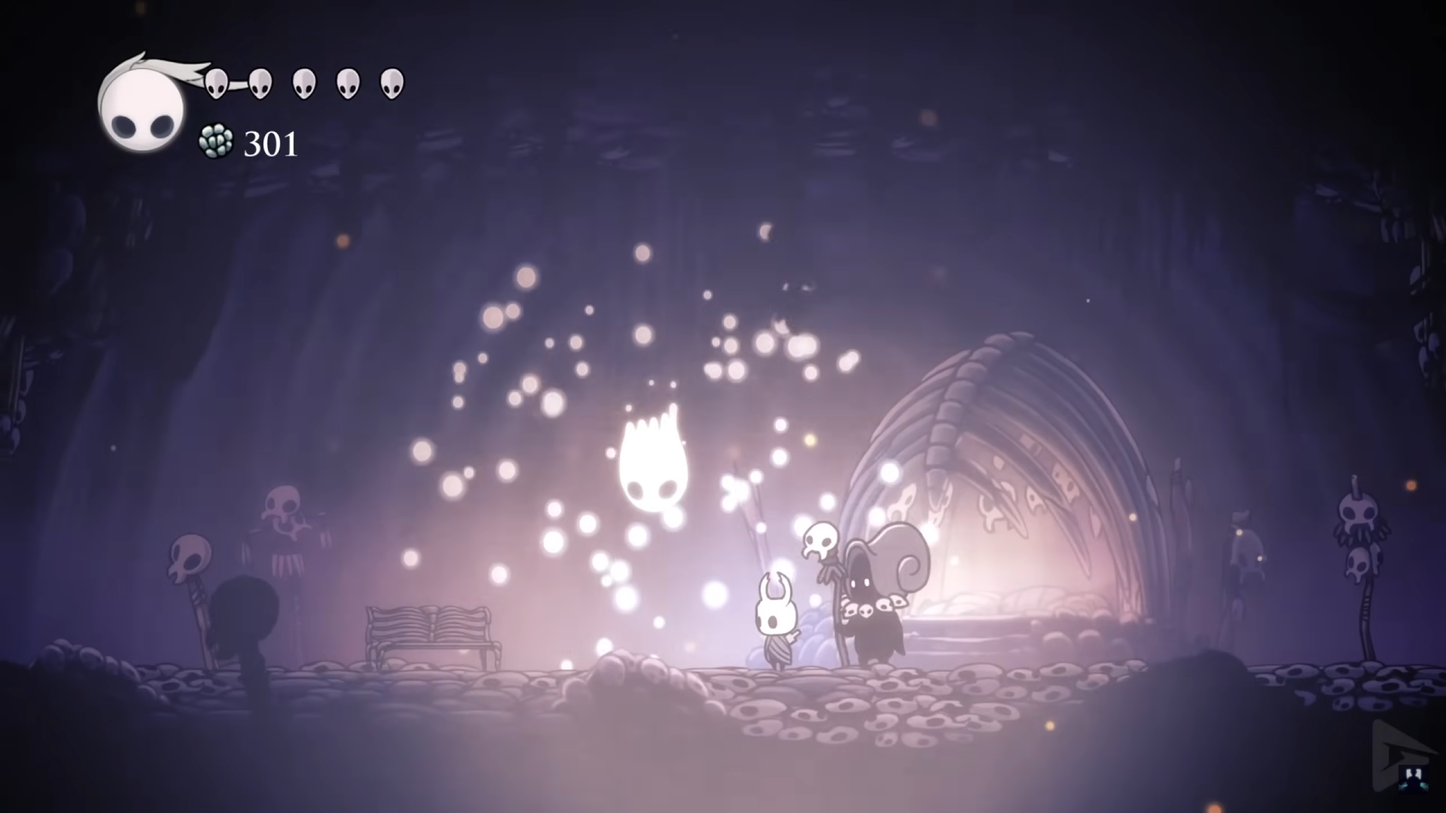HK: (746, 568, 804, 671)
